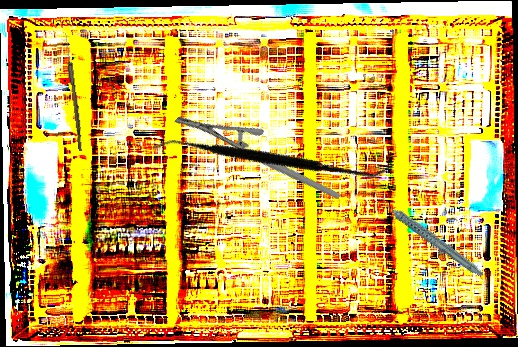Handpiece: (378, 176, 486, 296)
Needle Holder: (173, 74, 342, 243)
Spatula Surgical: (149, 57, 396, 257)
Surgical Spoon: (62, 32, 85, 152)
